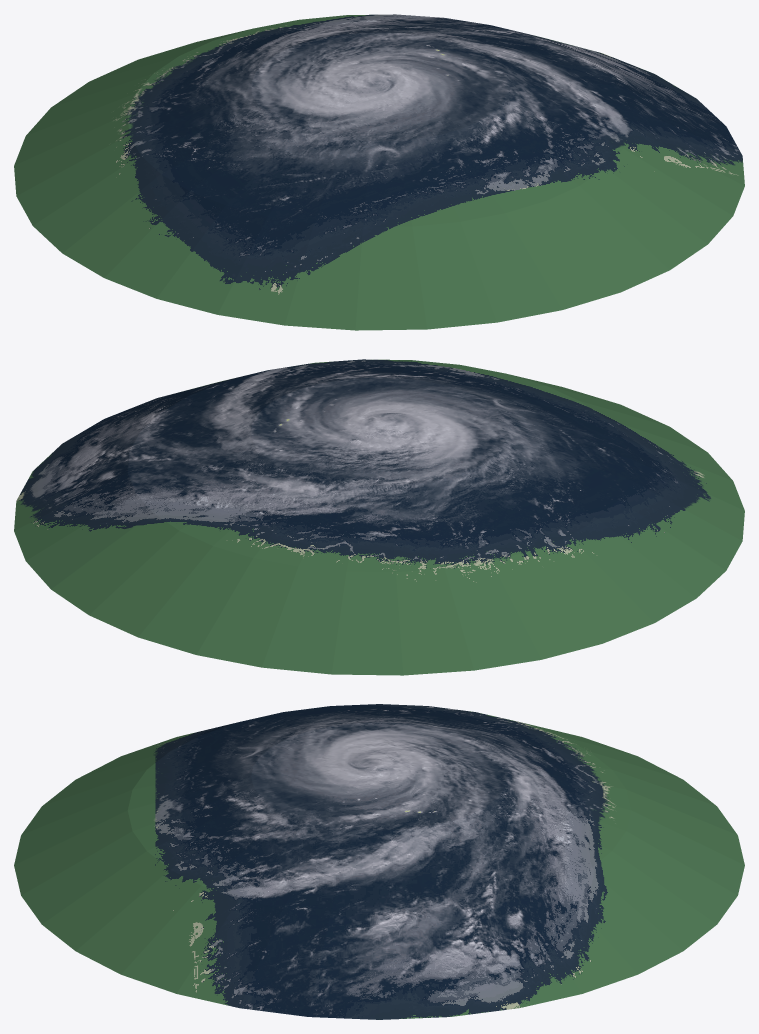
The model's file is 雷暴云.obj.
The picture shows the model from 3 angles, top to bottom: view 1: azimuth 30°, elevation 25°; view 2: azimuth 150°, elevation 25°; view 3: azimuth 270°, elevation 25°; orthographic projection.
Visible parts, largest first — view 1: Sphere001; view 2: Sphere001; view 3: Sphere001.
Boxes of the visible parts, x1=… form: Sphere001: x1=14, y1=14, x2=744, y2=330; Sphere001: x1=14, y1=359, x2=744, y2=675; Sphere001: x1=14, y1=704, x2=744, y2=1019.
Size of the model in its own units: 69.7 by 10.57 by 69.7.
